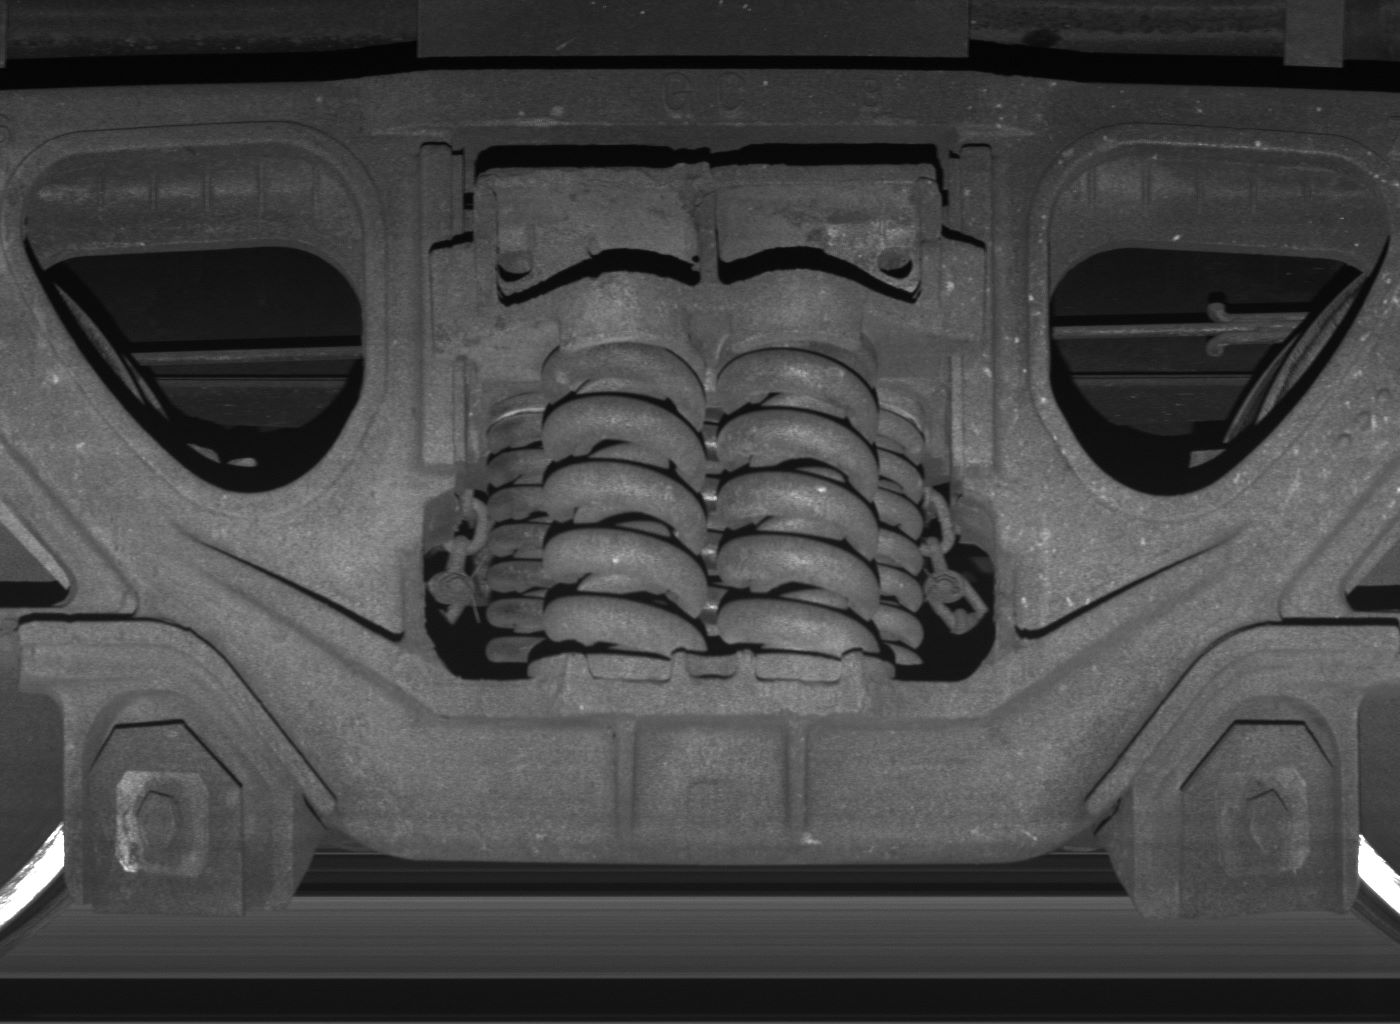normal: (1135, 690, 1360, 923), (64, 690, 293, 916)
